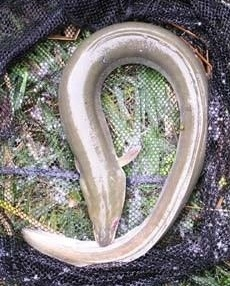Anguilla anguilla: (20, 20, 210, 266)
